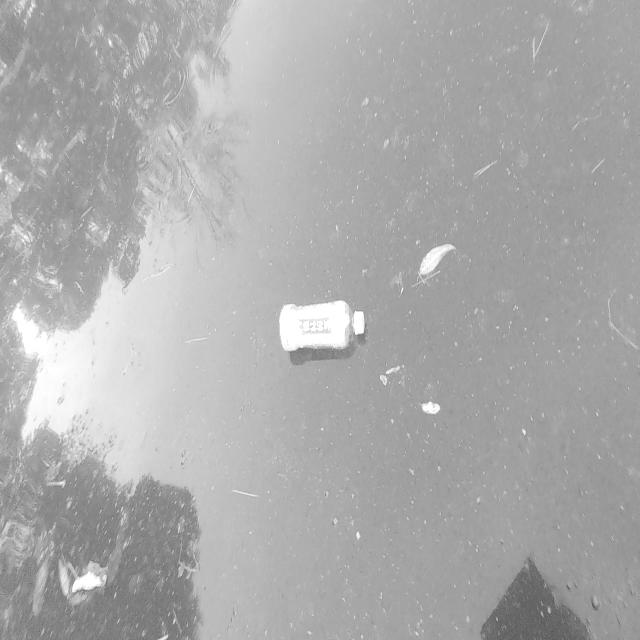bottle: (262, 286, 380, 369)
